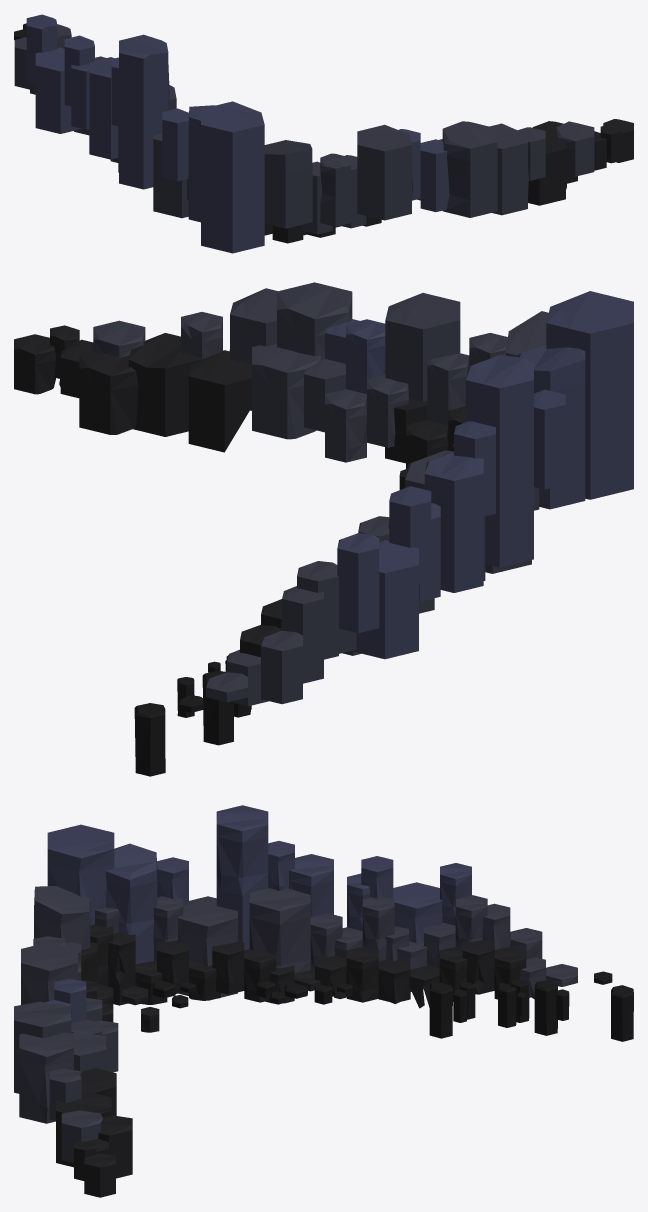
Rendered from Scene01SaltPillarsCorner.FBX.
3 views of the same model, one above another, from view 1: azimuth 30°, elevation 25°; view 2: azimuth 150°, elevation 25°; view 3: azimuth 270°, elevation 25° (orthographic). The views are drawn at different scales.
Visible parts, largest first — view 1: Cylinder030; view 2: Cylinder030; view 3: Cylinder030.
Part boxes in pixels (x1,y1,x2,y2): Cylinder030: (14,14,633,253); Cylinder030: (14,282,633,776); Cylinder030: (14,805,633,1197).
Size of the model in its own units: 674 by 776 by 258.
